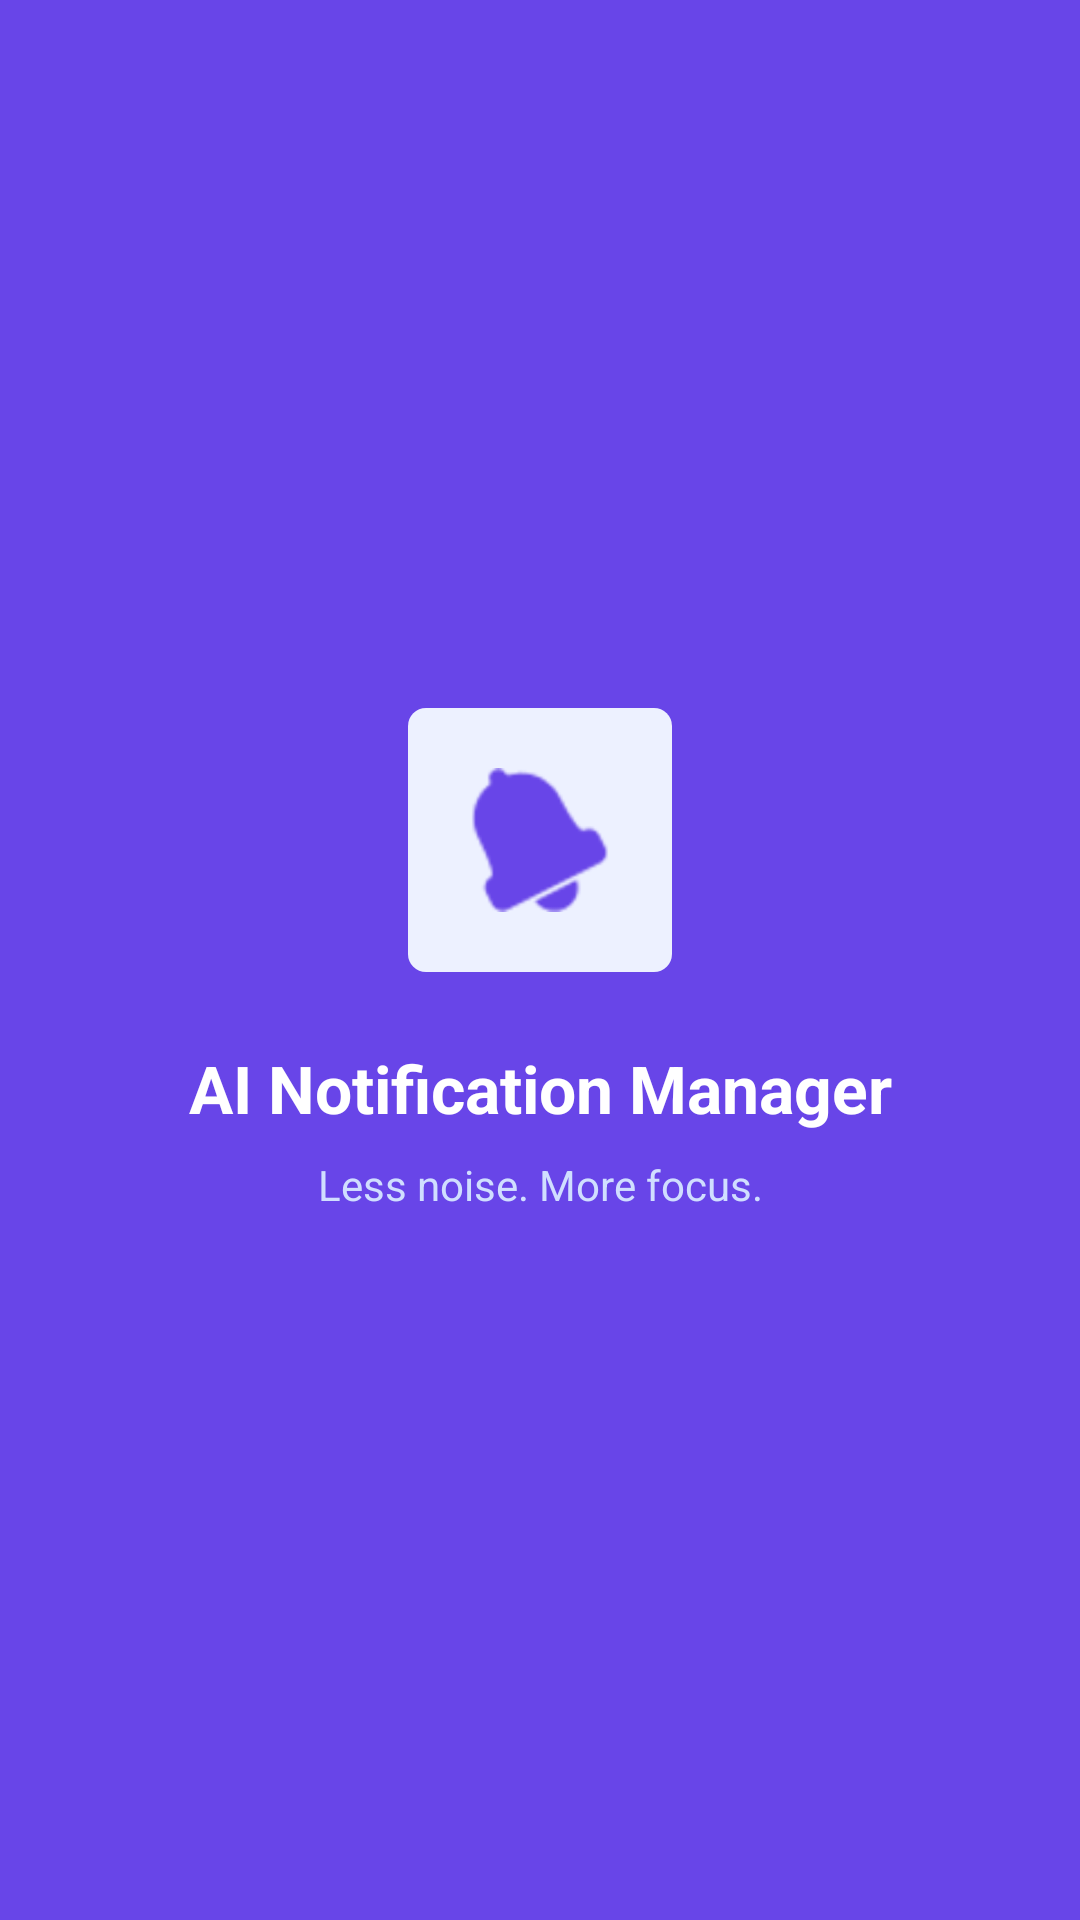

Screen size 1080 x 1920. Icon name, then its box in pixels as (x1,y1,x2,y2):
popup reminder: (408,708,672,972)
